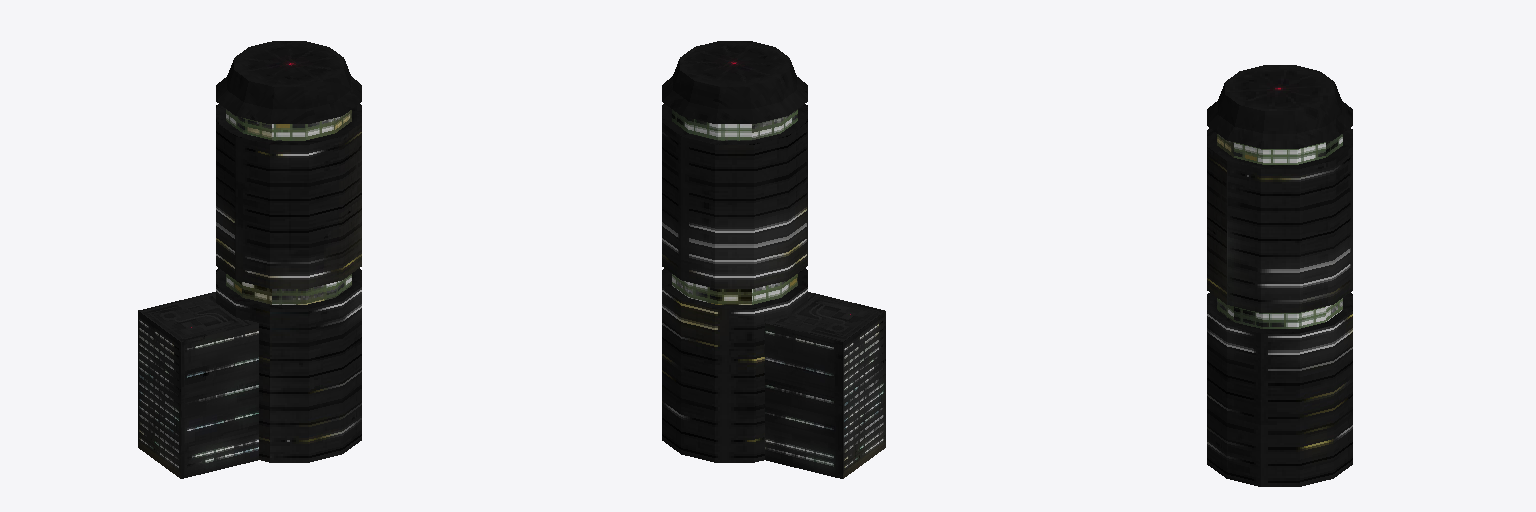
3 views of the same model, side by side, from view 1: azimuth 30°, elevation 25°; view 2: azimuth 150°, elevation 25°; view 3: azimuth 270°, elevation 25° (orthographic).
Parts seen in each view (by area): view 1: building_24; view 2: building_24; view 3: building_24.
Boxes of the visible parts, <box> form: building_24: <box>138,41,361,478</box>; building_24: <box>662,41,885,478</box>; building_24: <box>1207,65,1352,486</box>.
Bounding box in the file's own units: 73.21 × 133 × 48.06.
1 materials, 1 textured.